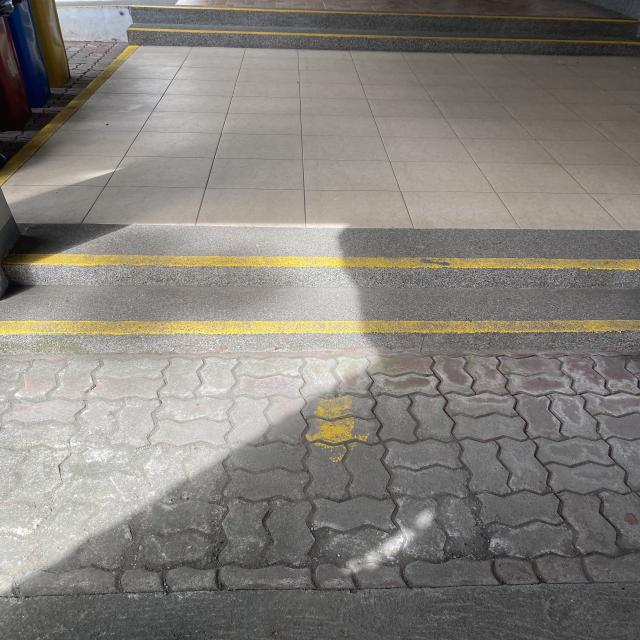stair: (0, 258, 640, 360), (128, 7, 639, 55)
